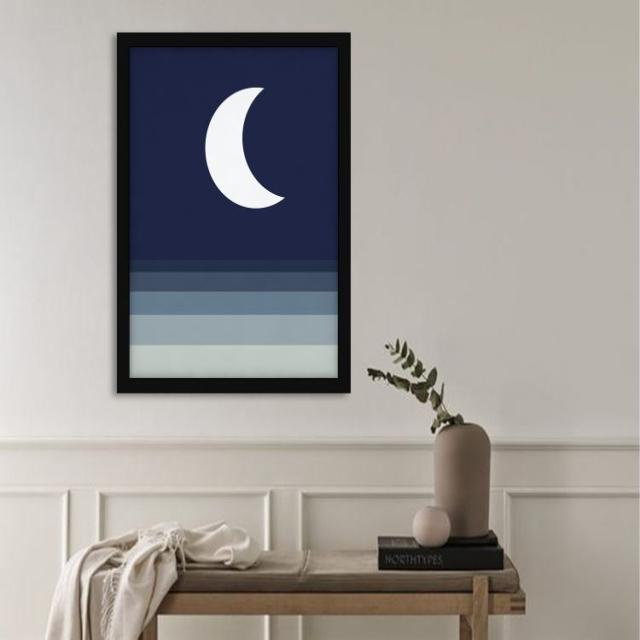painting: (115, 30, 352, 393)
